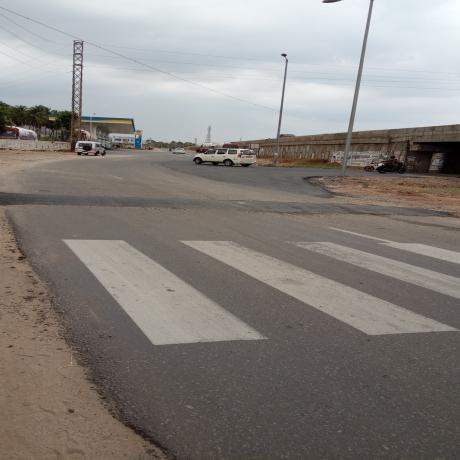Speed Bump: (2, 192, 459, 219)
